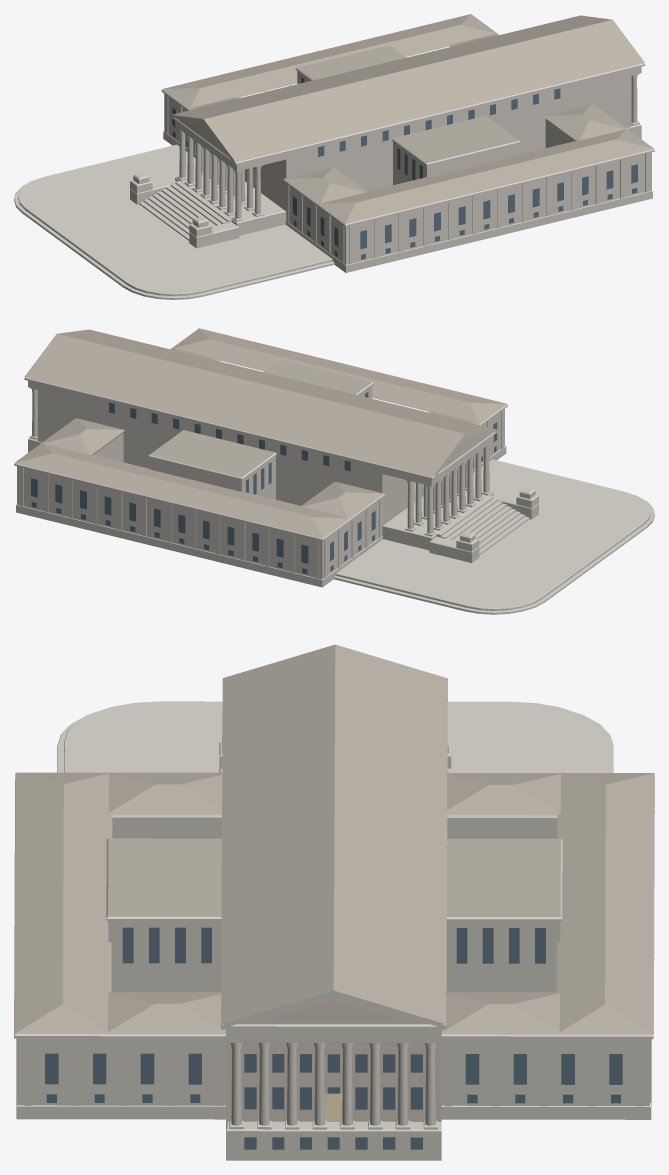
The model's file is detail.glb.
3 renders of one model, top to bottom at view 1: azimuth 30°, elevation 25°; view 2: azimuth 150°, elevation 25°; view 3: azimuth 270°, elevation 25°, orthographic. The views are drawn at different scales.
Visible parts, largest first — view 1: supreme-court-of-the-united-states; view 2: supreme-court-of-the-united-states; view 3: supreme-court-of-the-united-states.
Part boxes in pixels (<box>): supreme-court-of-the-united-states: <box>14,14,654,299</box>; supreme-court-of-the-united-states: <box>14,328,654,614</box>; supreme-court-of-the-united-states: <box>14,644,654,1160</box>.
Bounding box in the file's own units: 160 × 28.05 × 94.48.
